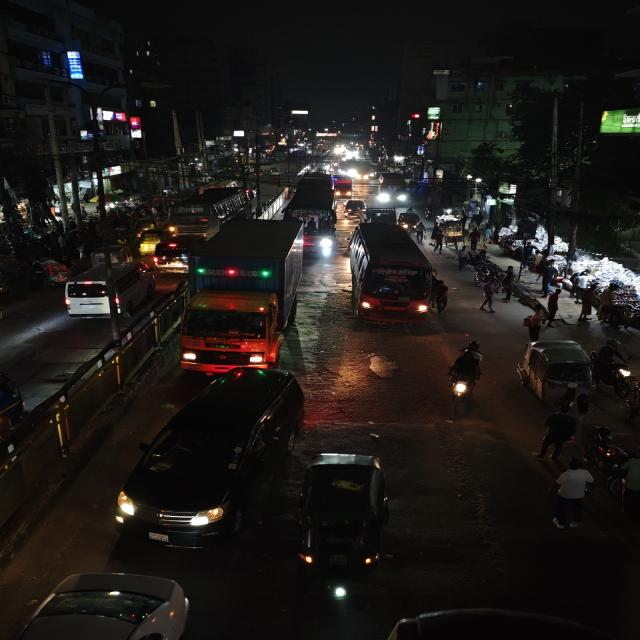bus: (344, 221, 438, 325), (165, 186, 254, 236), (286, 174, 338, 250), (375, 171, 413, 207)
car: (114, 368, 309, 548), (62, 260, 157, 322), (153, 239, 189, 272)
cng: (295, 452, 398, 610), (522, 344, 596, 409), (136, 232, 161, 256)
motorcycle: (445, 341, 486, 414), (596, 338, 636, 395), (587, 422, 629, 473)
pedestrian: (544, 462, 596, 530), (533, 403, 578, 466), (522, 304, 548, 342), (478, 276, 502, 312)
pickup_van: (332, 177, 356, 197)
truck: (180, 217, 309, 371)
